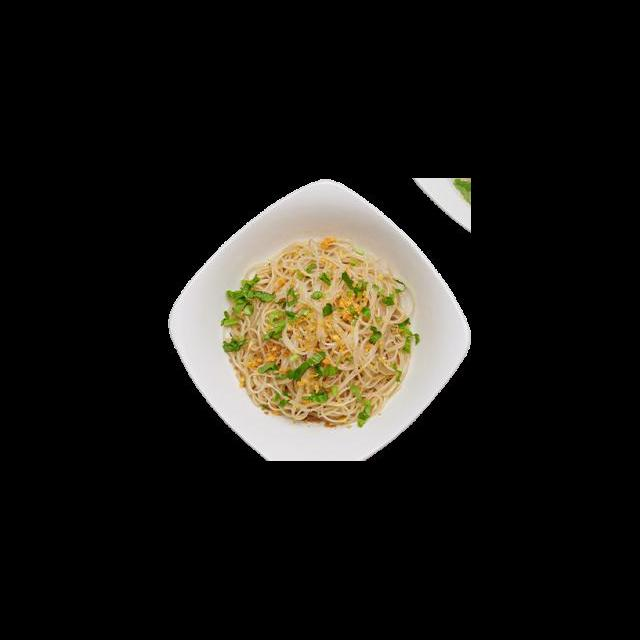banh hu tieu: (214, 230, 423, 432)
